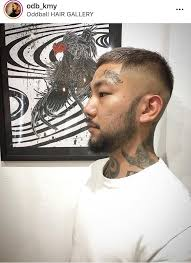asian_male: (80, 54, 149, 165)
